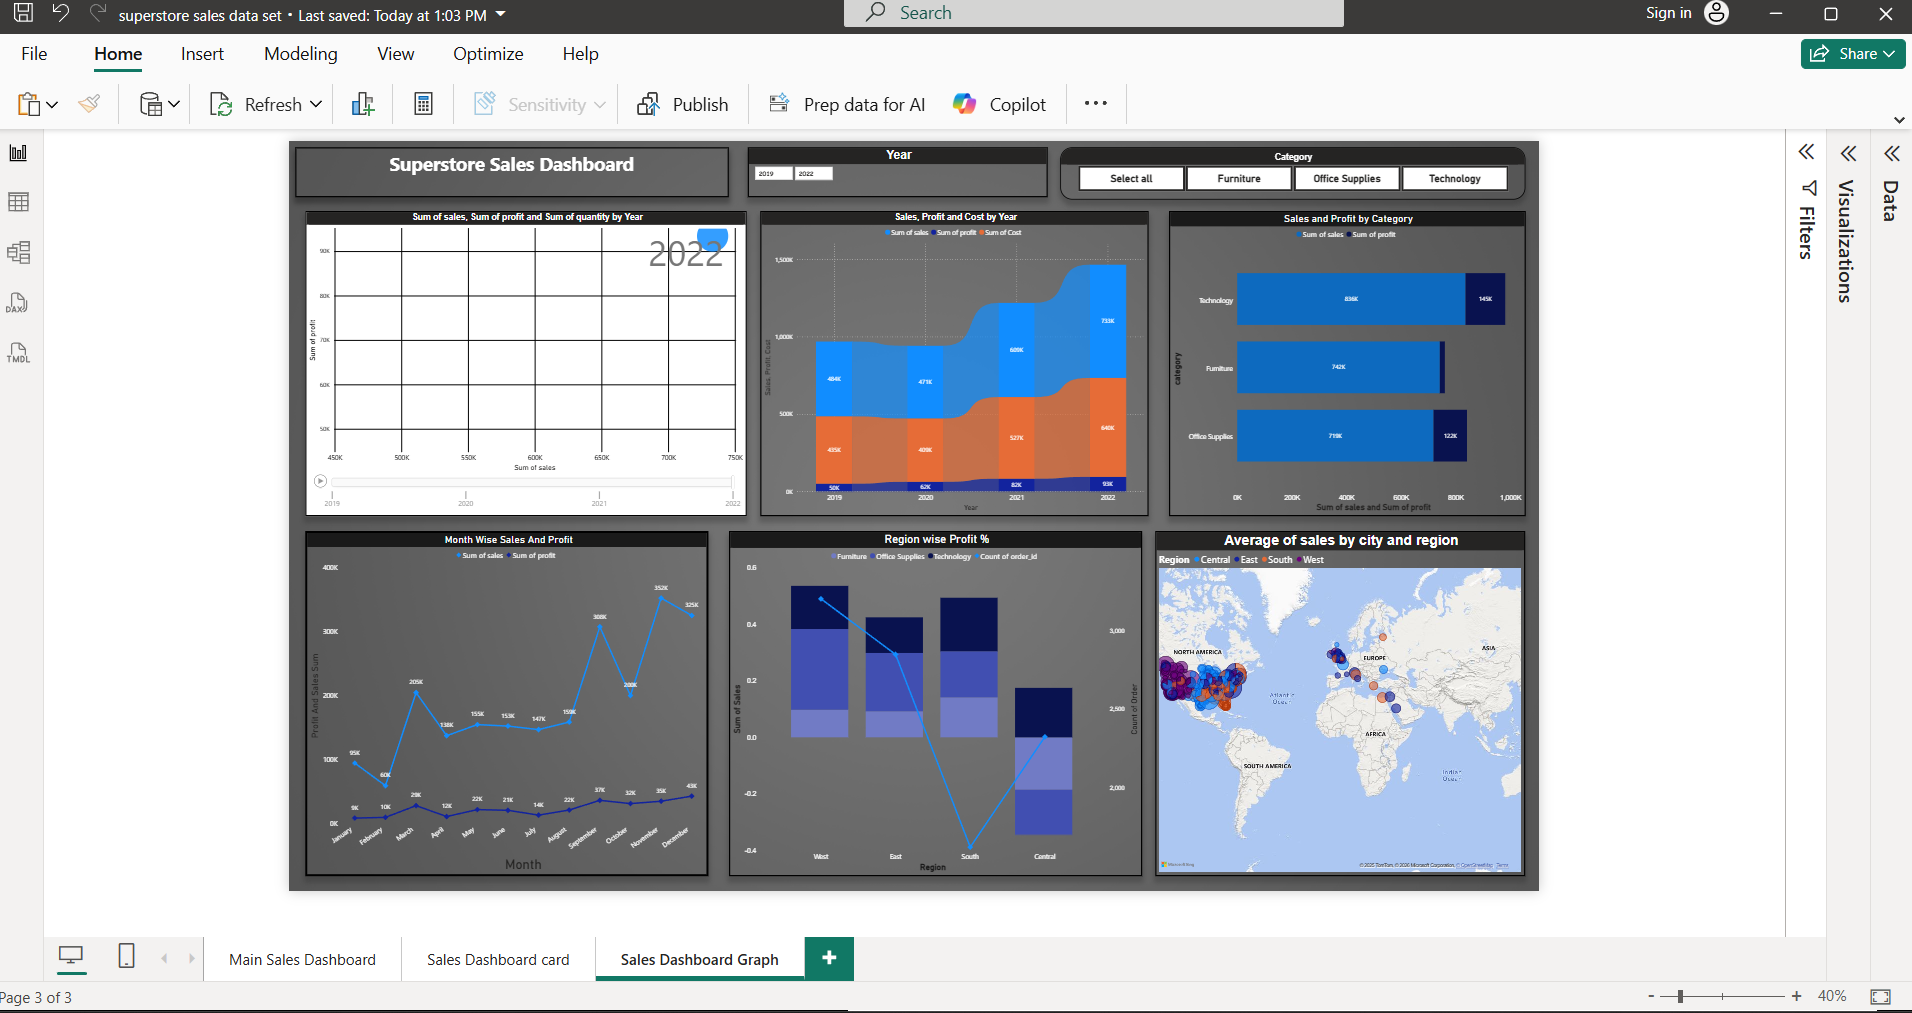

This screenshot's page, from the dashboard's own definition file:
{"tool":"powerbi","page":{"name":"Sales Dashboard Graph","canvas":[2500,1500],"ordinal":2},"visuals":[{"type":"textbox","box":[12.5,12.5,867.5,100],"z":0},{"type":"slicer","title":"Category","fields":{"Values":["superstore_dataset.category"]},"box":[1542.5,12.5,930,105],"z":1000},{"type":"map","fields":{"Series":["superstore_dataset.region"],"Category":["superstore_dataset.city"],"Size":["Avg(superstore_dataset.sales)"]},"box":[1733.3,780,740,690],"z":2000},{"type":"lineChart","title":"Month Wise Sales And Profit","fields":{"Y":["Sum(superstore_dataset.sales)","Sum(superstore_dataset.profit)"],"Category":["superstore_dataset.order_date.Variation.Date Hierarchy.Month"]},"box":[33.3,780,806.7,690],"z":3000},{"type":"lineStackedColumnComboChart","title":"Region wise Profit %","fields":{"Category":["superstore_dataset.region"],"Y2":["CountNonNull(superstore_dataset.order_id)"],"Series":["superstore_dataset.category"],"Y":["Avg(superstore_dataset.profit_margin%)"]},"box":[880,780,826.7,690],"z":4000},{"type":"ribbonChart","title":"Sales, Profit and Cost by Year","fields":{"Y":["Sum(superstore_dataset.sales)","Sum(superstore_dataset.profit)","Sum(superstore_dataset.Cost)"],"Category":["superstore_dataset.order_date.Variation.Date Hierarchy.Year"]},"box":[943.3,140,776.7,610],"z":5000},{"type":"scatterChart","fields":{"Play":["superstore_dataset.order_date.Variation.Date Hierarchy.Year"],"X":["Sum(superstore_dataset.sales)"],"Y":["Sum(superstore_dataset.profit)"],"Size":["Sum(superstore_dataset.quantity)"]},"box":[33.3,140,883.3,610],"z":6000},{"type":"barChart","title":"Sales and Profit by Category","fields":{"Y":["Sum(superstore_dataset.sales)","Sum(superstore_dataset.profit)"],"Category":["superstore_dataset.category"]},"box":[1760,140,713.3,610],"z":7000},{"type":"slicer","title":"Year","fields":{"Values":["superstore_dataset.order_date.Variation.Date Hierarchy.Year"]},"box":[917.5,12.5,600,100],"z":8000}]}

Visuals, with their boxes on the page's 2500x1500 design canvas (x1, y1, x2, y2). These are canvas units, not pixel positions in the 1912x1013 screenshot, which may show the page scaled, cropped or inside an application window:
textbox: 12 12 880 112
"Category" slicer: 1542 12 2472 118
map - superstore_dataset.region x superstore_dataset.city: 1733 780 2473 1470
"Month Wise Sales And Profit" lineChart: 33 780 840 1470
"Region wise Profit %" lineStackedColumnComboChart: 880 780 1707 1470
"Sales, Profit and Cost by Year" ribbonChart: 943 140 1720 750
scatterChart - superstore_dataset.order_date.Variation.Date Hierarchy.Year x Sum(superstore_dataset.sales): 33 140 917 750
"Sales and Profit by Category" barChart: 1760 140 2473 750
"Year" slicer: 918 12 1518 112
